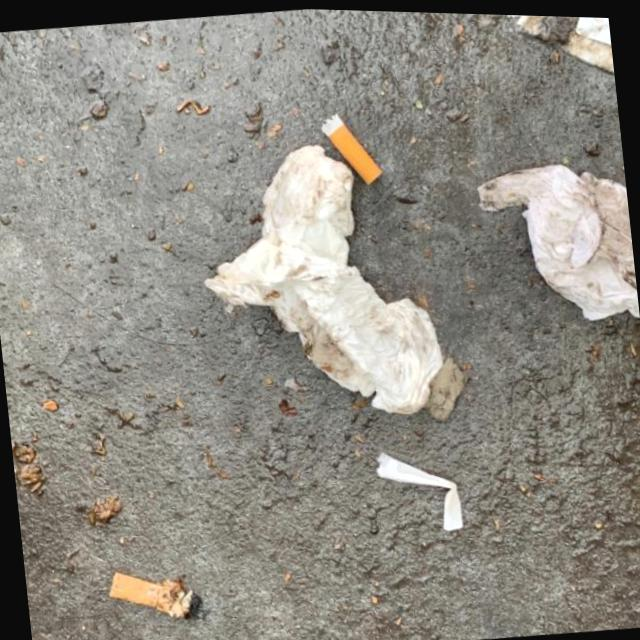Paper: (187, 126, 450, 434), (471, 149, 640, 334), (469, 11, 614, 92)
